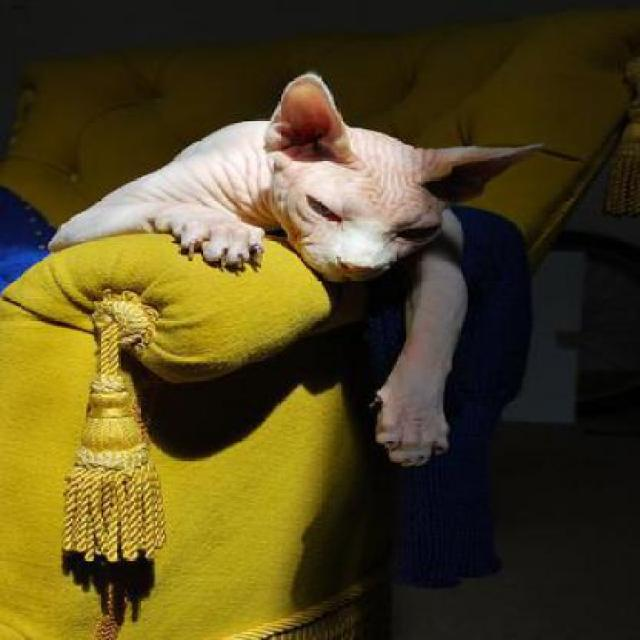cat: (40, 70, 543, 467)
